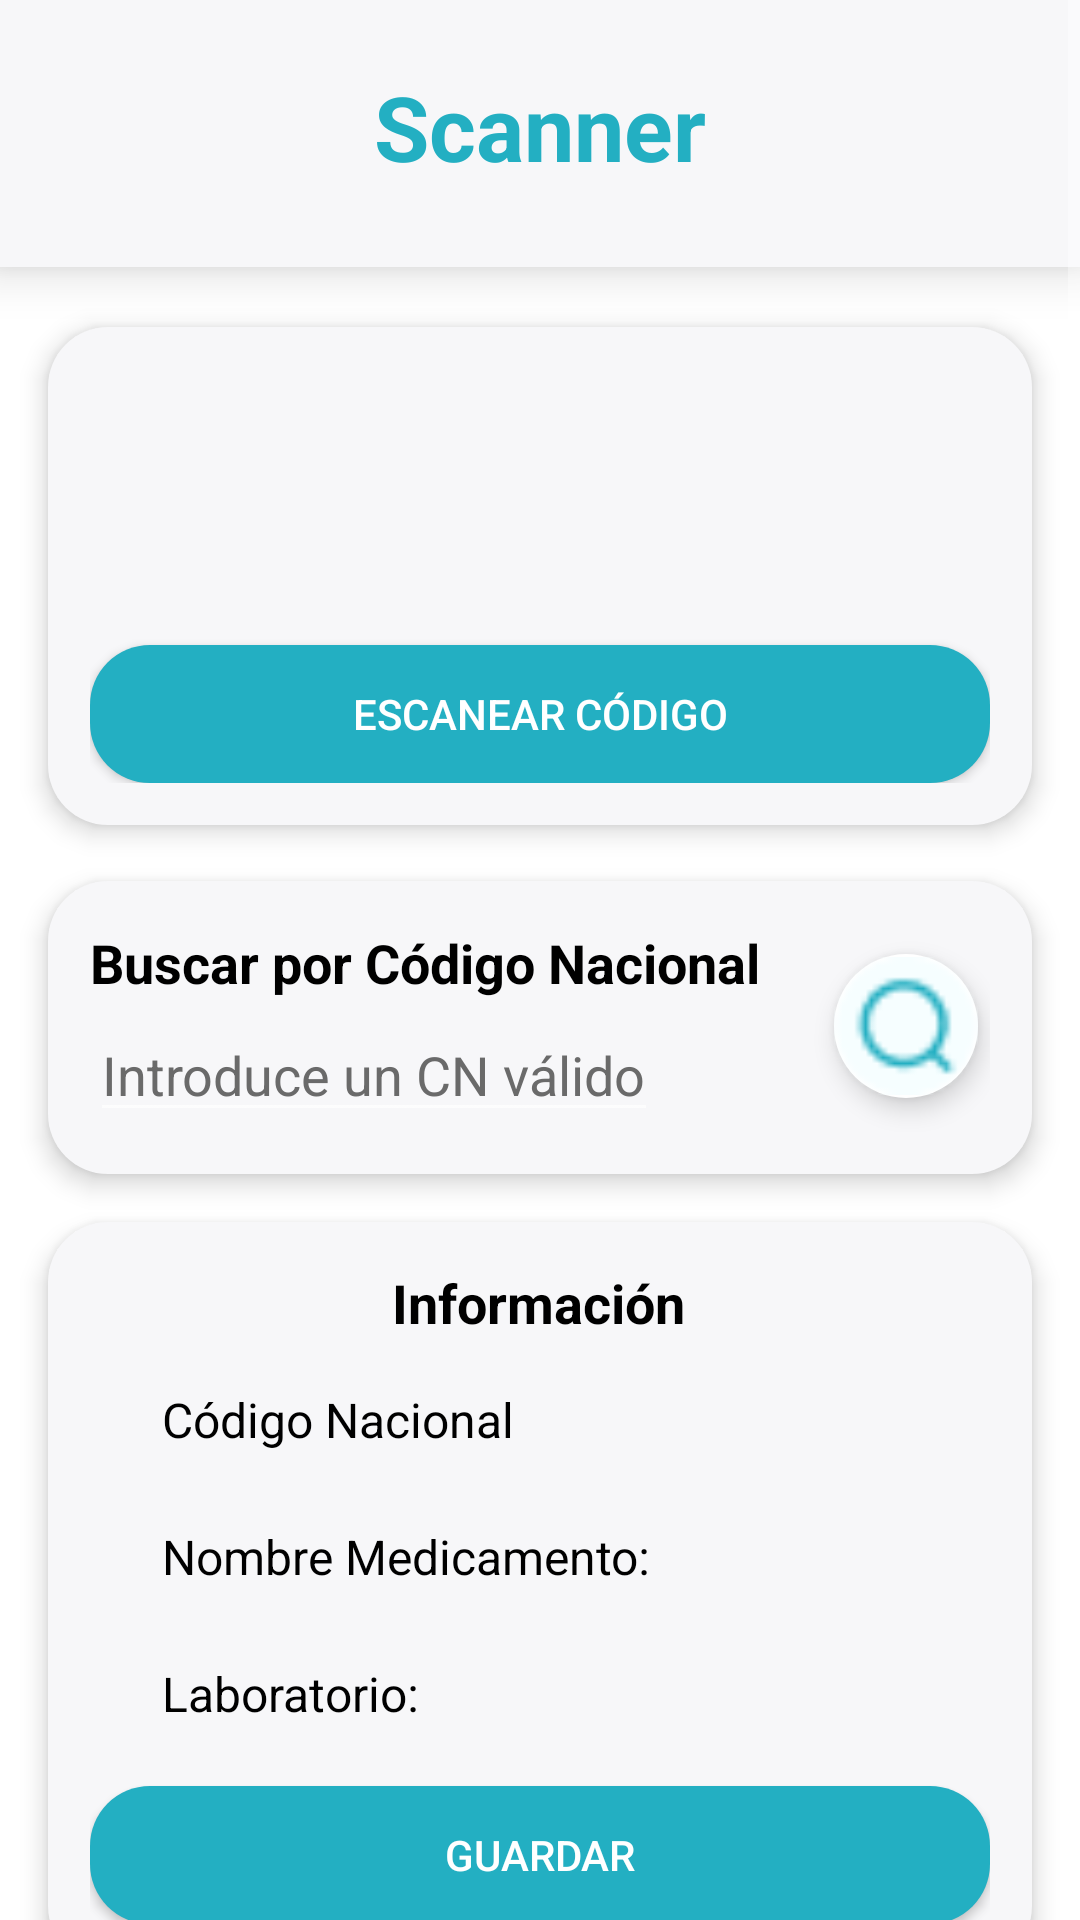

Where to tap for icons on this 1080 x 1920 app screen, as (x,y):
lupa scanner: (906,1026)
